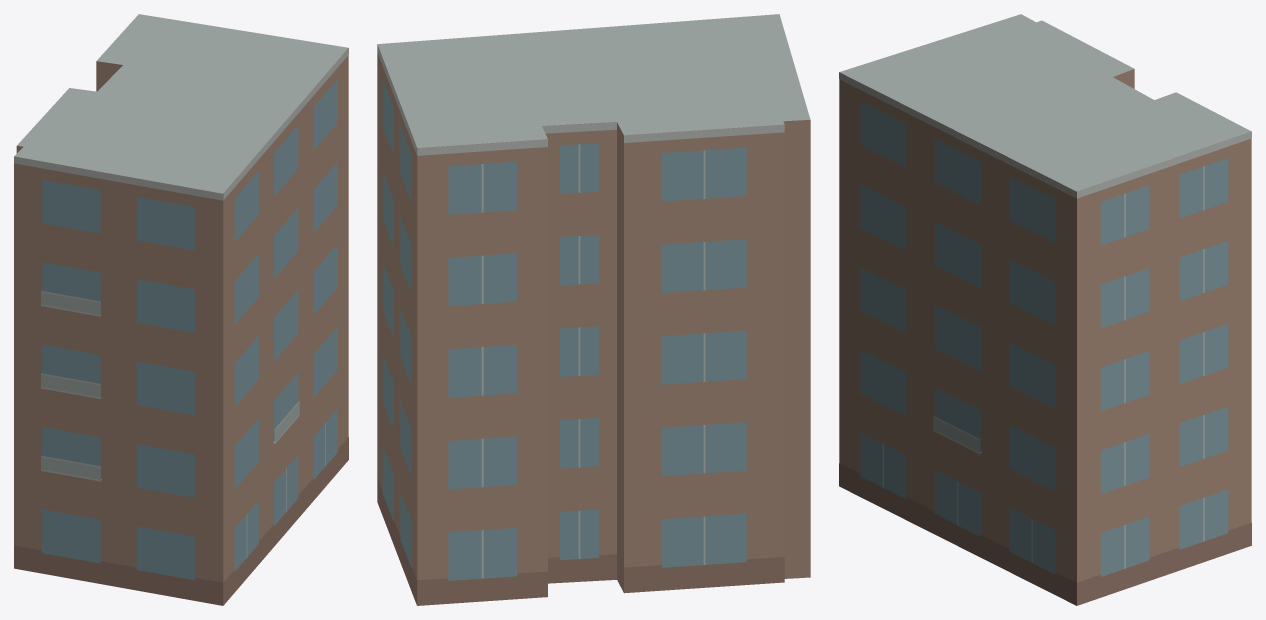
The model's file is survey-upis-33047605.glb.
3 views of the same model, side by side, from view 1: azimuth 30°, elevation 25°; view 2: azimuth 150°, elevation 25°; view 3: azimuth 270°, elevation 25° (orthographic). The views are drawn at different scales.
Parts seen in each view (by area): view 1: survey-upis-33047605.tmp; view 2: survey-upis-33047605.tmp; view 3: survey-upis-33047605.tmp.
Part boxes in pixels (x1,y1,x2,y2): survey-upis-33047605.tmp: (14, 14, 348, 605); survey-upis-33047605.tmp: (377, 14, 810, 605); survey-upis-33047605.tmp: (839, 14, 1251, 605).
Size of the model in its own units: 13.3 by 14.45 by 13.05.
